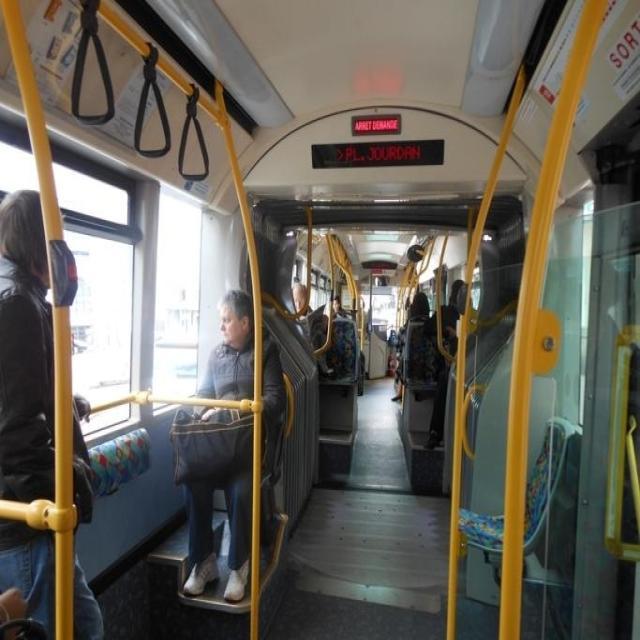Persona: (0, 190, 53, 502), (171, 406, 251, 600), (71, 395, 142, 534), (421, 281, 466, 448), (0, 520, 53, 639), (198, 290, 254, 399), (261, 336, 285, 530), (74, 551, 103, 639), (54, 235, 77, 304), (295, 282, 305, 314)
